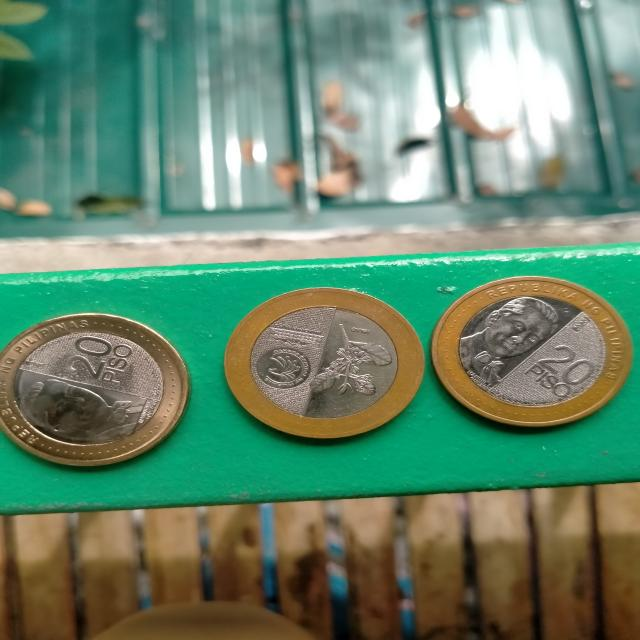20_New_Back: (304, 309, 396, 410)
20_New_Front: (521, 340, 608, 405), (59, 330, 139, 386)
